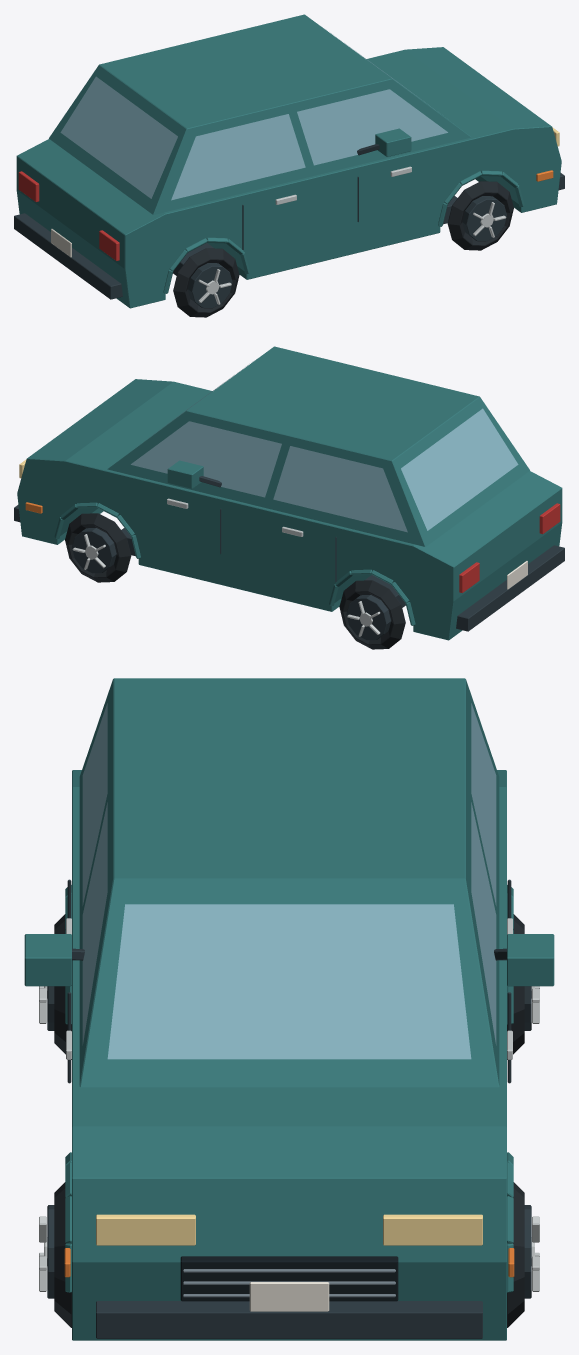
Rendered from b03_five_door_tall_hatchback.glb.
3 renders of one model, top to bottom at view 1: azimuth 30°, elevation 25°; view 2: azimuth 150°, elevation 25°; view 3: azimuth 270°, elevation 25°, orthographic. The views are drawn at different scales.
Visible parts, largest first — view 1: b03_five_door_tall_hatchback; view 2: b03_five_door_tall_hatchback; view 3: b03_five_door_tall_hatchback.
Part boxes in pixels (<box>): b03_five_door_tall_hatchback: <box>14,14,564,317</box>; b03_five_door_tall_hatchback: <box>14,346,564,649</box>; b03_five_door_tall_hatchback: <box>24,678,554,1340</box>.
Size of the model in its own units: 4.25 by 1.63 by 2.13.
